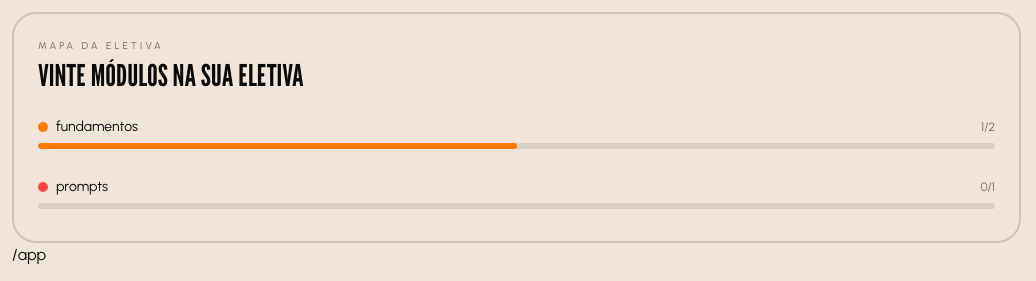
Scenario: TrailsProgress › clicar em uma trilha navega pra /app/trilhas via SPA (sem reload)
This screenshot has width=1036, height=281.
Check: the text with test id "location" reads "/app", box [12,245,46,264]
Step 1. Click the link "fundamentos 1/2" → (97, 126), box [30,109,1003,157]
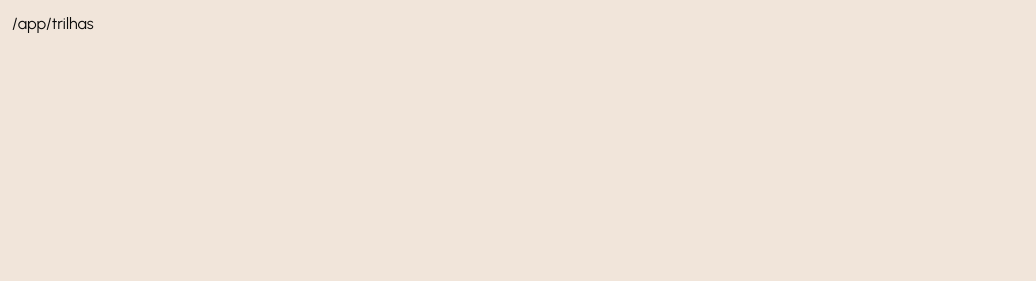
Check: the text with test id "location" reads "/app/trilhas", box [12,14,94,33]
